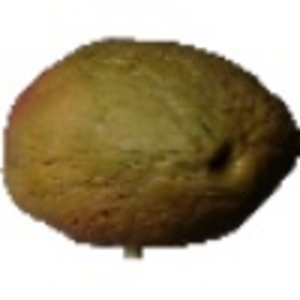mamão: (5, 33, 292, 250)
